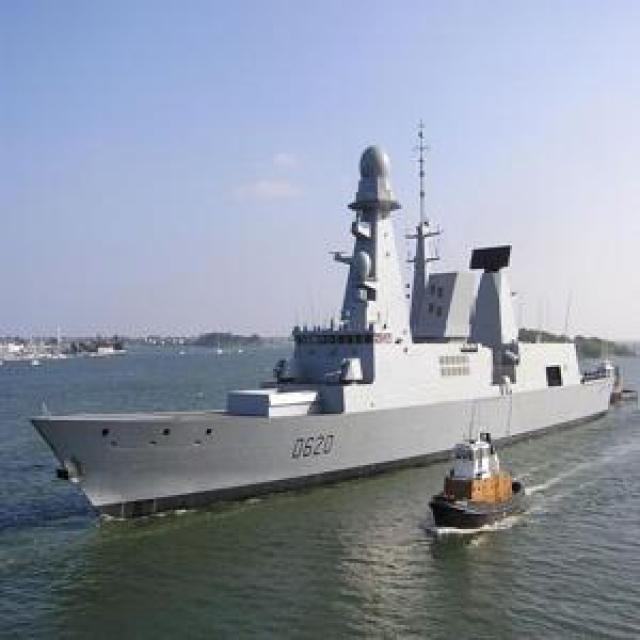navalvessels: (30, 122, 633, 524), (392, 420, 533, 541)
